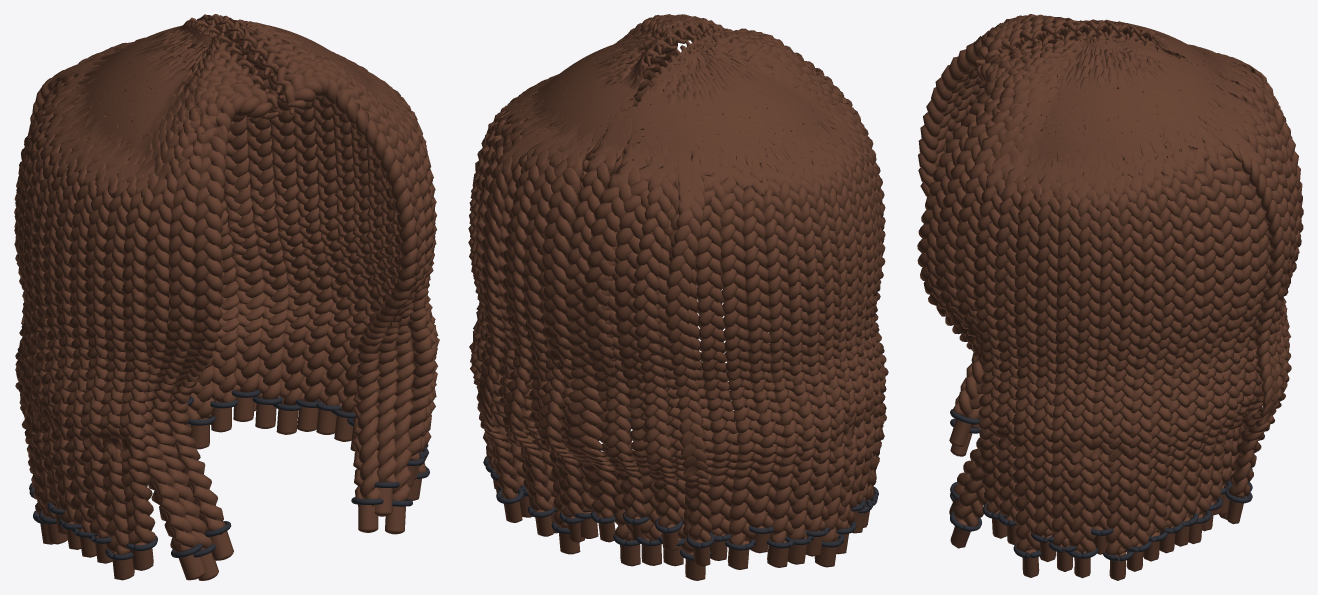
The model's file is box-braids-pashmina-default.glb.
3 views of the same model, side by side, from view 1: azimuth 30°, elevation 25°; view 2: azimuth 150°, elevation 25°; view 3: azimuth 270°, elevation 25° (orthographic). The views are drawn at different scales.
Visible parts, largest first — view 1: 226 hair / Hair / chestnut226.001, 226 hair / Hair / ties226.001; view 2: 226 hair / Hair / chestnut226.001, 226 hair / Hair / ties226.001; view 3: 226 hair / Hair / chestnut226.001, 226 hair / Hair / ties226.001.
Part boxes in pixels (left/top/right/bottom): 226 hair / Hair / chestnut226.001: left=14, top=14, right=439, bottom=580; 226 hair / Hair / ties226.001: left=29, top=390, right=429, bottom=560; 226 hair / Hair / chestnut226.001: left=468, top=14, right=888, bottom=580; 226 hair / Hair / ties226.001: left=483, top=418, right=878, bottom=560; 226 hair / Hair / chestnut226.001: left=917, top=14, right=1303, bottom=580; 226 hair / Hair / ties226.001: left=950, top=409, right=1252, bottom=561.
Bounding box in the file's own units: 0.8774 × 1.08 × 0.7934.
